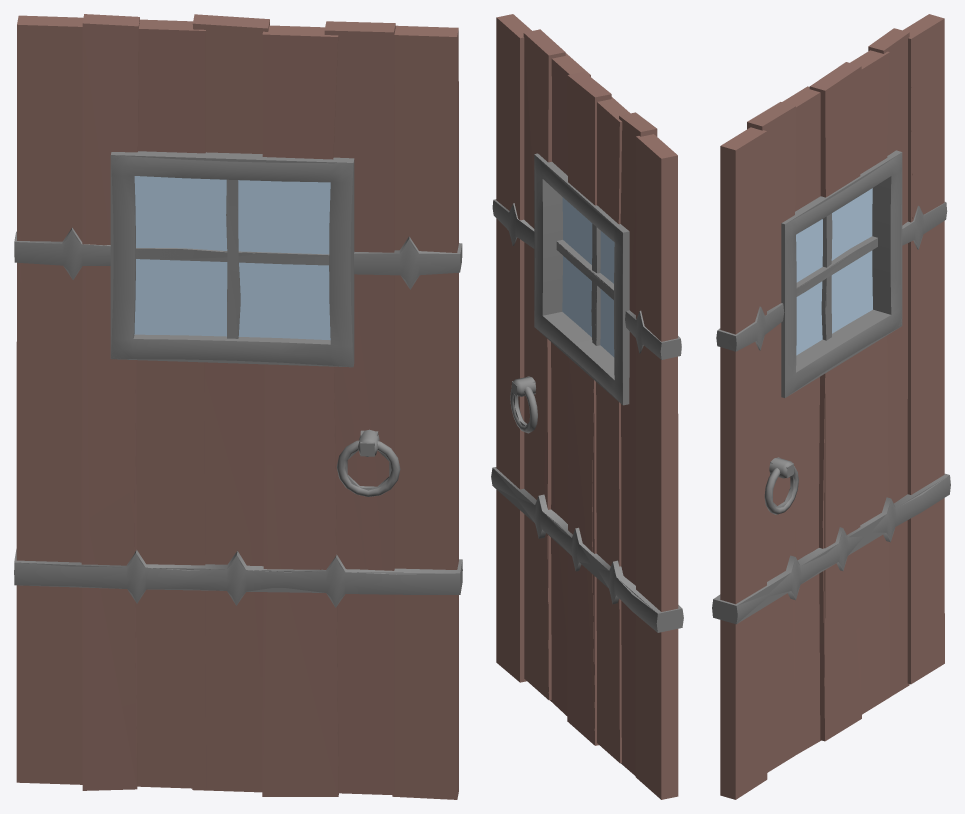
File: Wooden_Door_1_W.fbx
3 views of the same model, side by side, from view 1: azimuth 30°, elevation 25°; view 2: azimuth 150°, elevation 25°; view 3: azimuth 270°, elevation 25° (orthographic). The views are drawn at different scales.
Parts seen in each view (by area): view 1: Wooden_Door_1_W_LOD0, Wooden_Door_1_W, Wooden_Door_1_Glass; view 2: Wooden_Door_1_W_LOD0, Wooden_Door_1_W, Wooden_Door_1_Glass; view 3: Wooden_Door_1_W_LOD0, Wooden_Door_1_W, Wooden_Door_1_Glass.
Boxes of the visible parts, bbox=[...] form: Wooden_Door_1_W_LOD0: bbox=[14, 24, 462, 799]; Wooden_Door_1_W: bbox=[14, 14, 462, 796]; Wooden_Door_1_Glass: bbox=[134, 176, 330, 340]; Wooden_Door_1_W_LOD0: bbox=[493, 17, 681, 799]; Wooden_Door_1_W: bbox=[491, 14, 683, 740]; Wooden_Door_1_Glass: bbox=[562, 197, 614, 357]; Wooden_Door_1_W_LOD0: bbox=[713, 18, 949, 799]; Wooden_Door_1_W: bbox=[712, 14, 950, 754]; Wooden_Door_1_Glass: bbox=[796, 188, 872, 355].
Bounding box in the file's own units: 1 × 2.18 × 0.7212.
